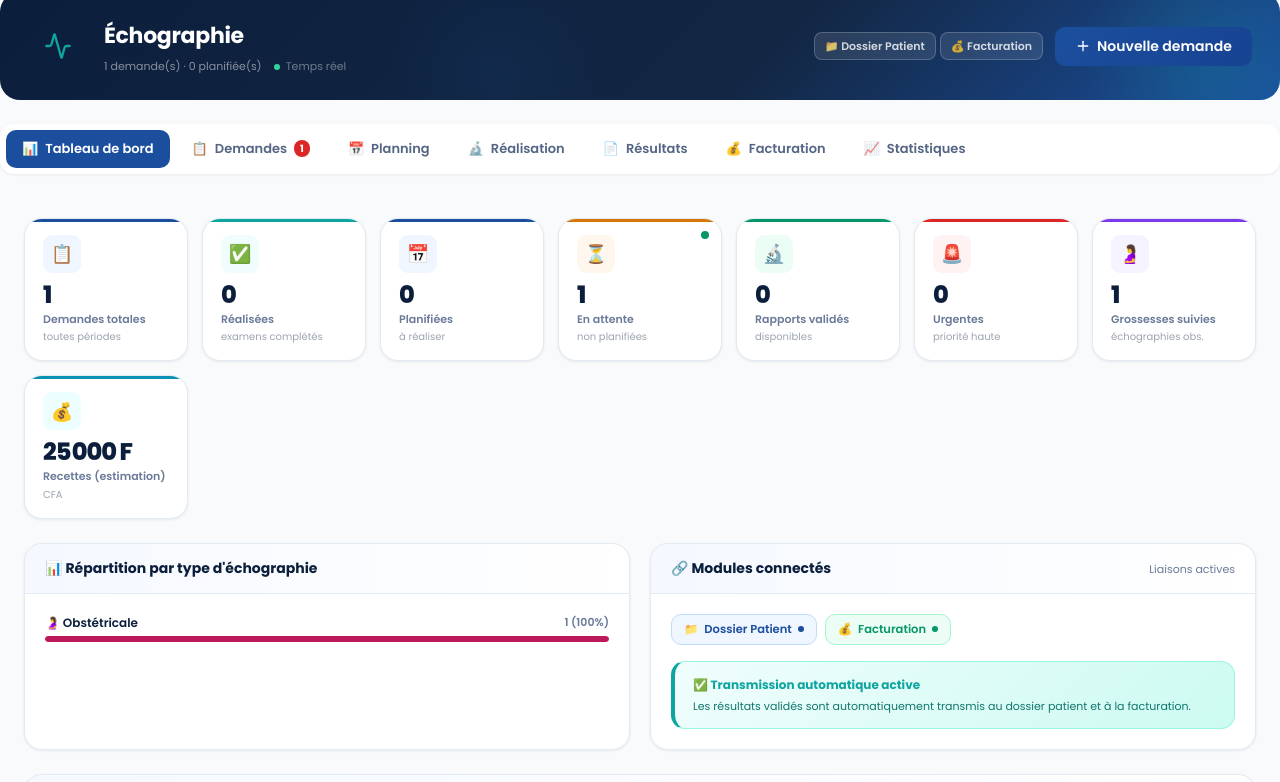
Test: le sélecteur "Planifier un examen" propose un vrai radiologue, jamais les noms fictifs d'origine
Step 1. Click the button "📅 Planning" → (389, 149), box [332,130,446,168]
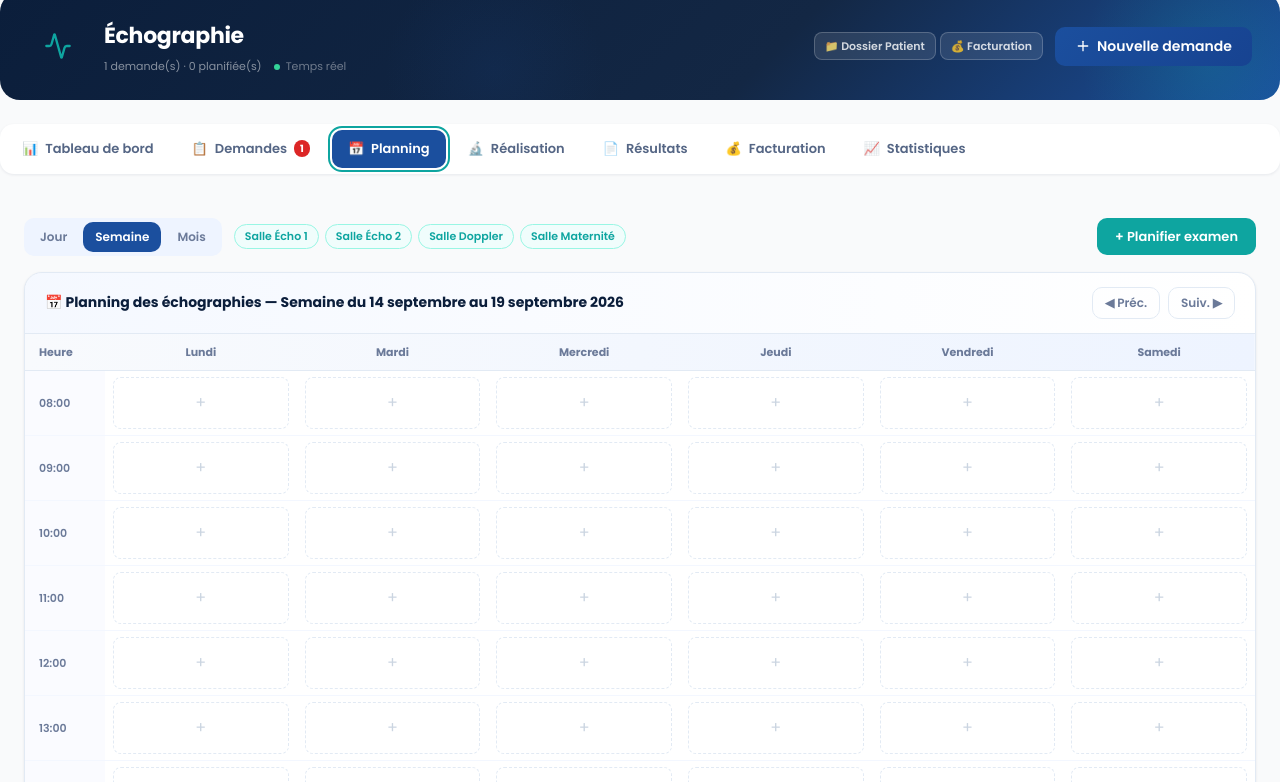
Step 2. Click the button "+ Planifier examen" → (1176, 237), box [1097,218,1256,255]
(page scrolled)
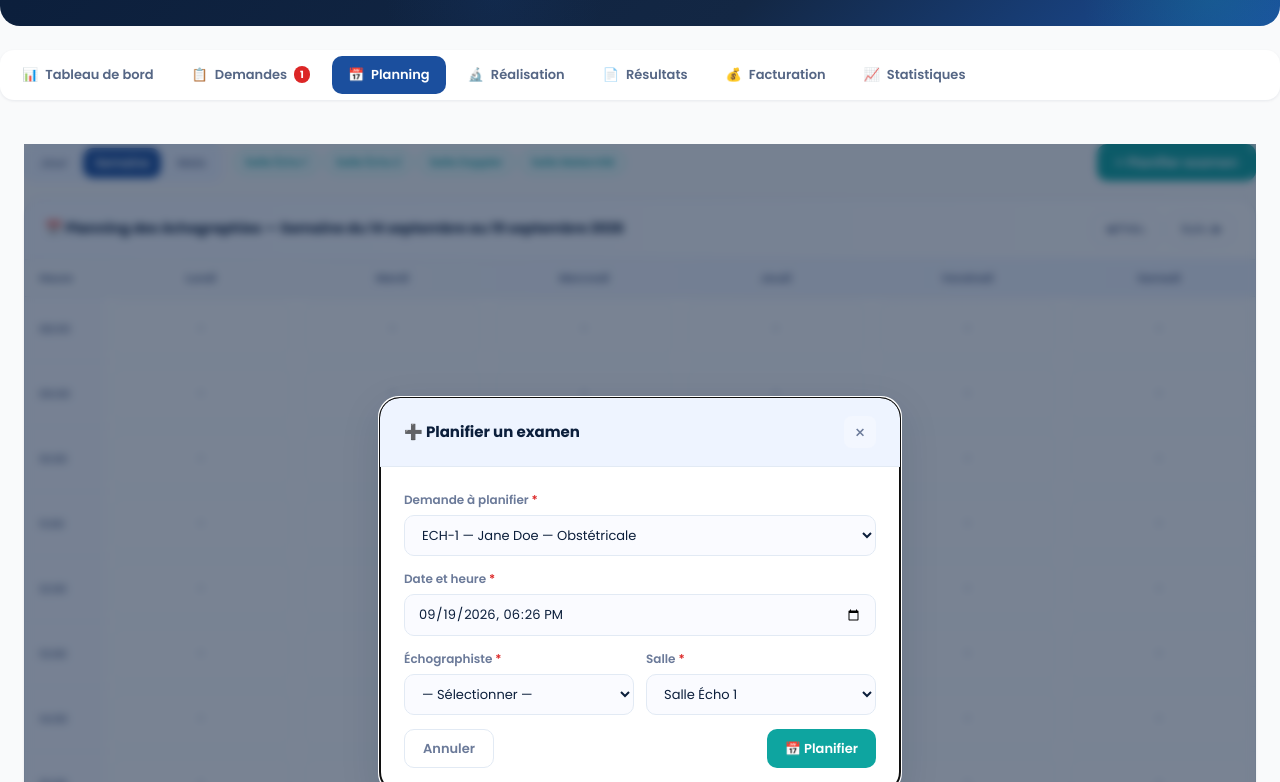
Now the dropdown below "Échographiste" shows "— Sélectionner —", box [404,674,634,715]
